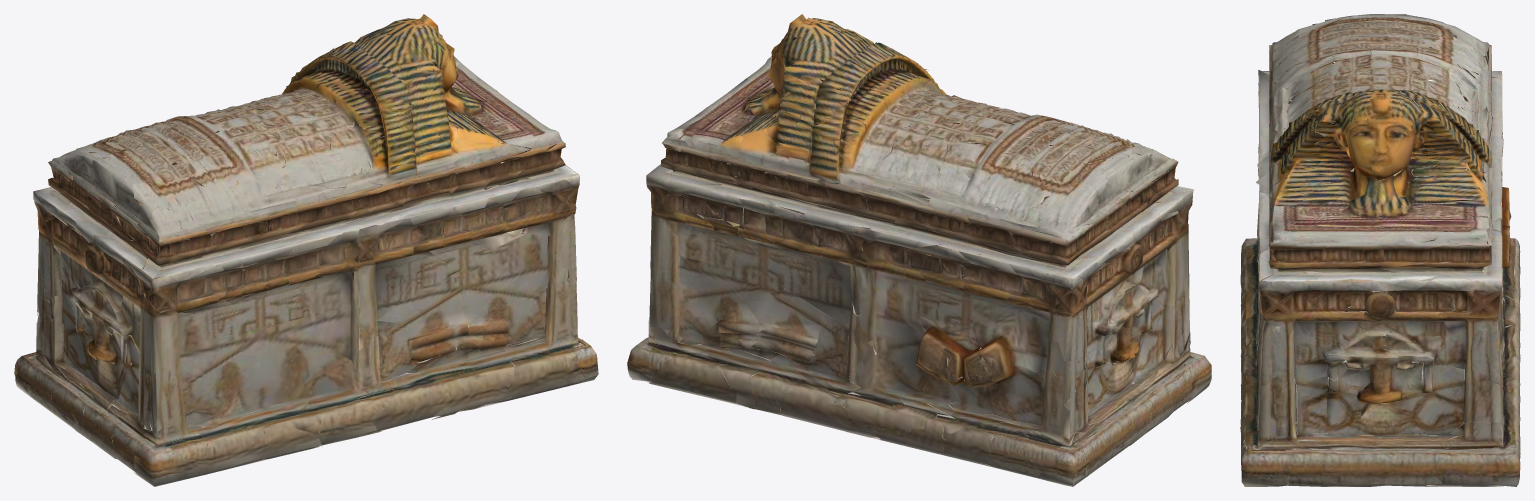
Rendered from sarcophagus_dec.glb.
3 views of the same model, side by side, from view 1: azimuth 30°, elevation 25°; view 2: azimuth 150°, elevation 25°; view 3: azimuth 270°, elevation 25° (orthographic).
Visible parts, largest first — view 1: Mesh_0.013; view 2: Mesh_0.013; view 3: Mesh_0.013.
Part boxes in pixels (<box>): Mesh_0.013: <box>14,14,598,486</box>; Mesh_0.013: <box>627,14,1211,486</box>; Mesh_0.013: <box>1240,14,1520,486</box>.
Bounding box in the file's own units: 1.91 × 1.38 × 1.03.
1 material, 1 textured.
